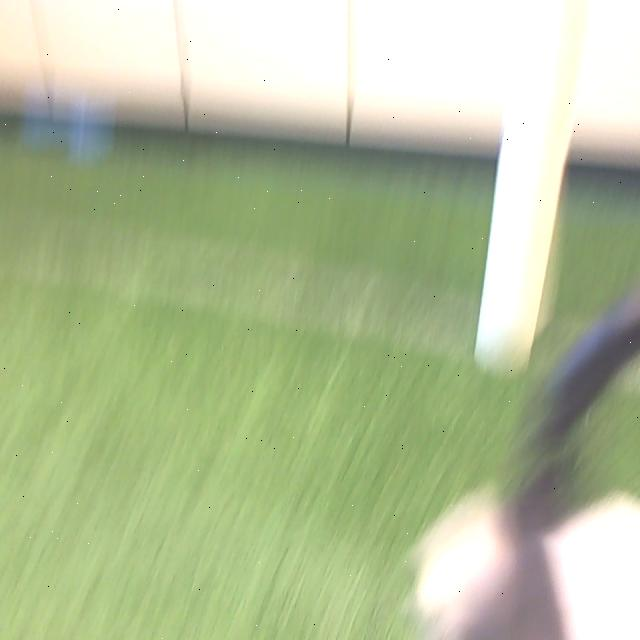goalpost: (472, 1, 589, 361)
